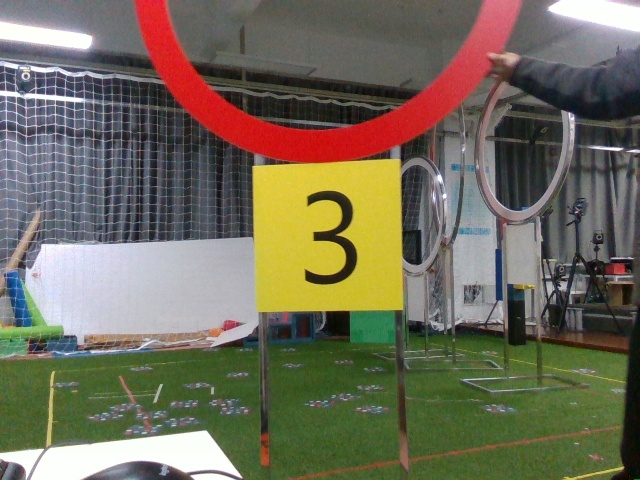target: (257, 170, 403, 306)
